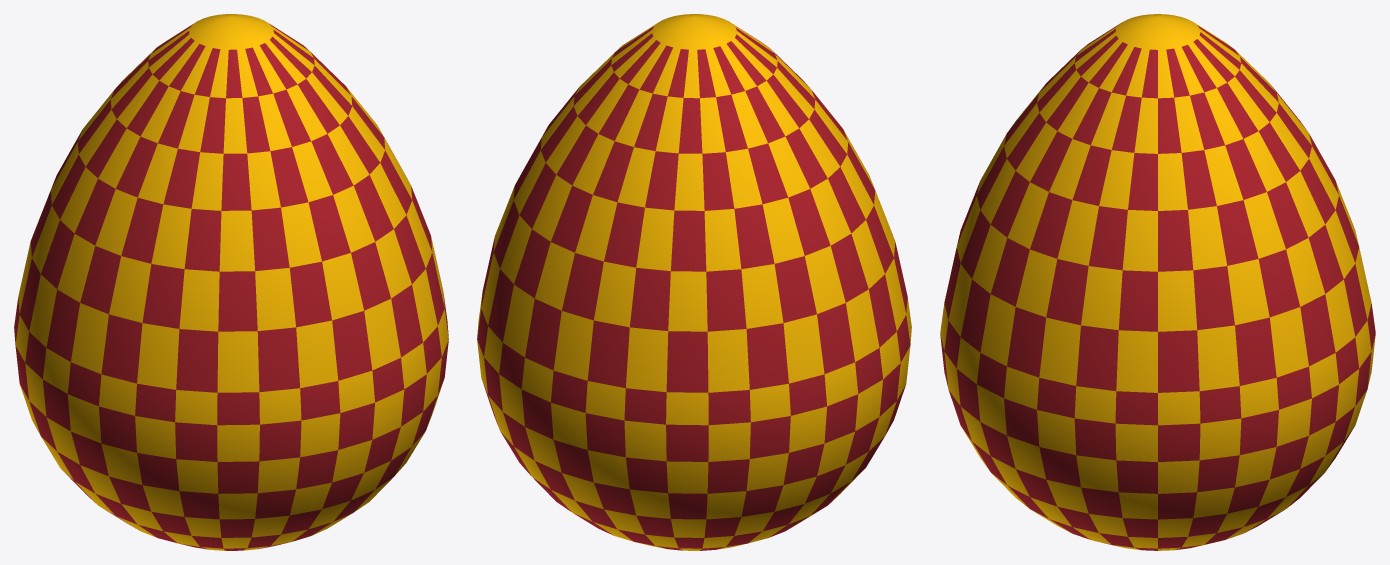
File: InstaKill_Egg.FBX
The picture shows the model from 3 angles, left to right: view 1: azimuth 30°, elevation 25°; view 2: azimuth 150°, elevation 25°; view 3: azimuth 270°, elevation 25°; orthographic projection.
Parts seen in each view (by area): view 1: Sphere002; view 2: Sphere002; view 3: Sphere002.
Boxes of the visible parts, left/top/right/bottom form: Sphere002: left=14, top=14, right=448, bottom=550; Sphere002: left=477, top=14, right=911, bottom=550; Sphere002: left=940, top=14, right=1375, bottom=550.
Size of the model in its own units: 37.47 by 48.66 by 37.47.
Materials: 1 (1 with a texture image).
